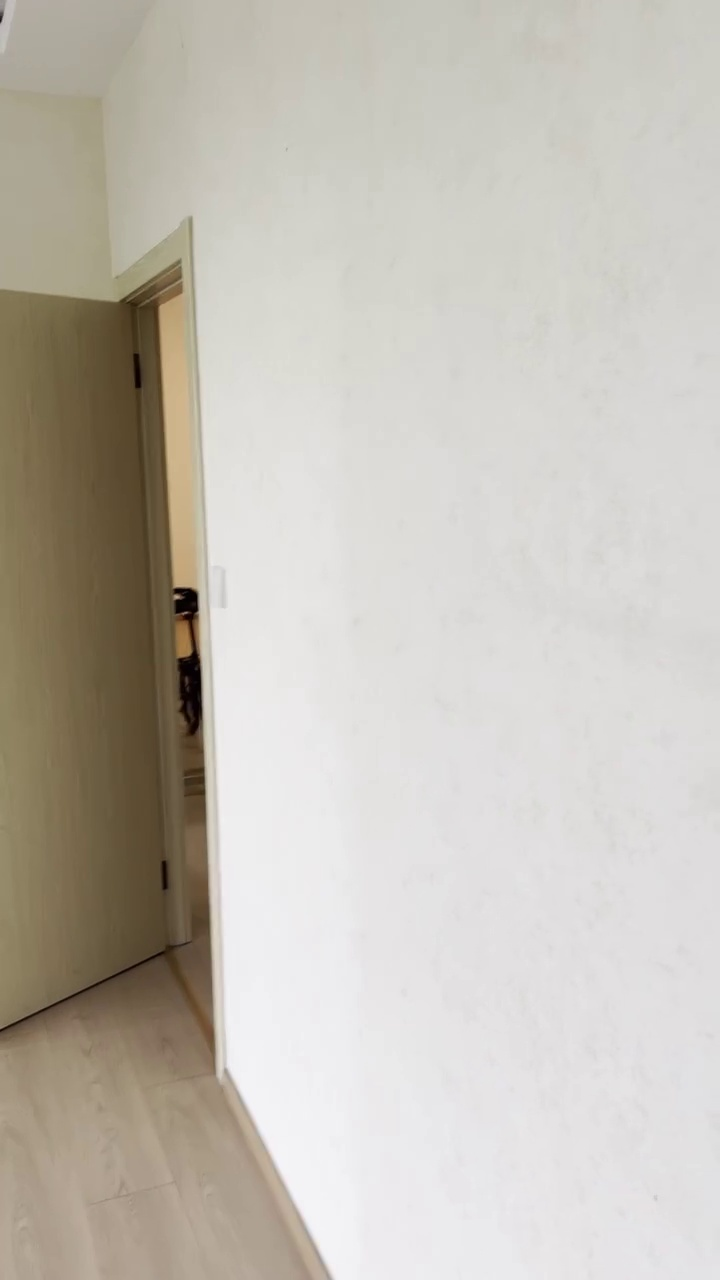button: (209, 563, 228, 609)
